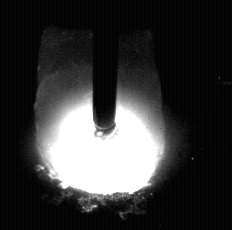arame: (93, 0, 117, 137)
poca: (35, 0, 166, 230)
